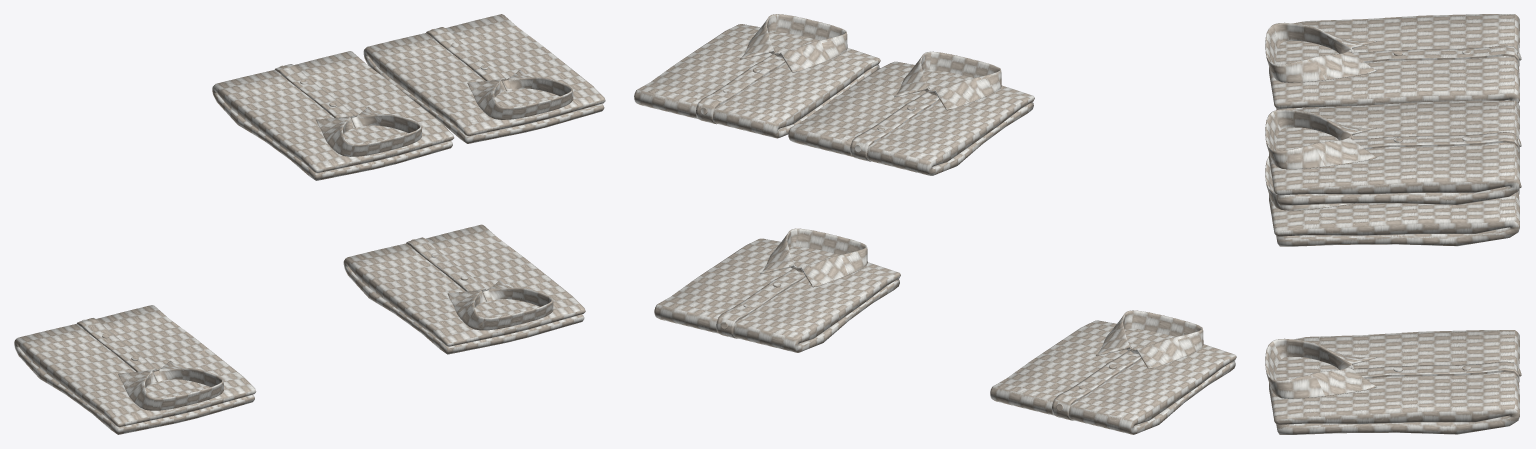
The model's file is chenshan26.fbx.
3 renders of one model, left to right at view 1: azimuth 30°, elevation 25°; view 2: azimuth 150°, elevation 25°; view 3: azimuth 270°, elevation 25°, orthographic. The views are drawn at different scales.
Visible parts, largest first — view 1: chenshan26; view 2: chenshan26; view 3: chenshan26.
Boxes of the visible parts, x1,y1,x2,y2 form: chenshan26: (14,14,605,434); chenshan26: (634,14,1236,434); chenshan26: (1265,14,1521,434).
Bounding box in the file's own units: 86.19 × 39.99 × 33.24.
